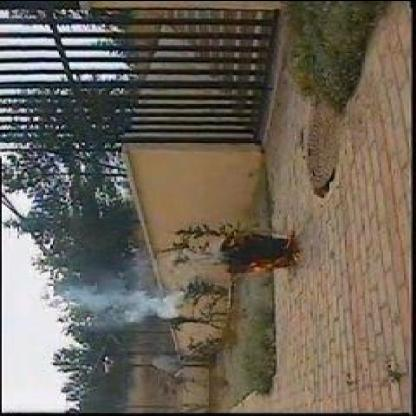-: (69, 284, 181, 322)
foggia-v2-map80-epoch100 - v1 4323: (244, 256, 274, 272)
